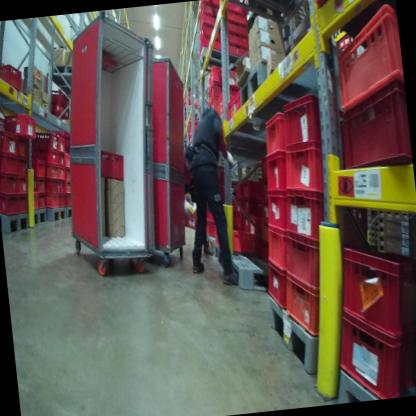pallet: (228, 45, 329, 135), (259, 292, 321, 379), (217, 243, 284, 300), (226, 0, 300, 30), (196, 40, 241, 80), (45, 59, 81, 90), (201, 222, 226, 260), (3, 212, 33, 241), (20, 210, 48, 237), (45, 204, 68, 231), (66, 207, 74, 225)
small_load_carrier: (335, 234, 416, 351), (331, 2, 406, 114), (281, 88, 340, 169), (274, 182, 337, 252), (279, 137, 342, 198), (278, 267, 326, 340), (282, 228, 329, 295), (91, 142, 135, 184), (258, 108, 293, 160), (262, 253, 290, 316), (261, 147, 293, 199), (210, 222, 256, 257), (263, 223, 294, 274), (262, 187, 289, 234), (1, 109, 39, 142), (223, 15, 249, 52), (0, 60, 26, 92), (224, 87, 245, 126), (29, 128, 60, 154), (31, 142, 58, 171), (208, 64, 235, 91), (239, 210, 265, 237), (0, 122, 19, 157), (24, 154, 47, 182), (0, 166, 21, 196), (0, 147, 19, 179), (198, 18, 223, 42), (225, 38, 250, 62), (0, 189, 20, 219), (240, 174, 261, 202), (199, 33, 228, 53), (197, 7, 223, 29), (42, 87, 65, 110), (200, 200, 220, 226), (208, 79, 231, 100), (226, 6, 247, 28), (238, 193, 261, 212), (15, 168, 30, 194), (312, 0, 344, 12), (17, 193, 33, 217), (50, 101, 67, 123), (14, 133, 27, 161), (202, 0, 224, 16), (40, 158, 56, 180), (44, 174, 59, 197), (32, 174, 48, 191), (205, 219, 220, 237), (15, 161, 29, 180), (29, 188, 40, 211), (52, 149, 66, 167), (45, 190, 58, 208), (55, 135, 67, 153), (54, 193, 68, 207), (53, 163, 66, 178), (64, 194, 77, 208), (38, 191, 47, 211), (0, 109, 8, 130), (63, 181, 75, 194), (55, 177, 64, 194), (63, 166, 73, 181), (63, 150, 71, 167)
